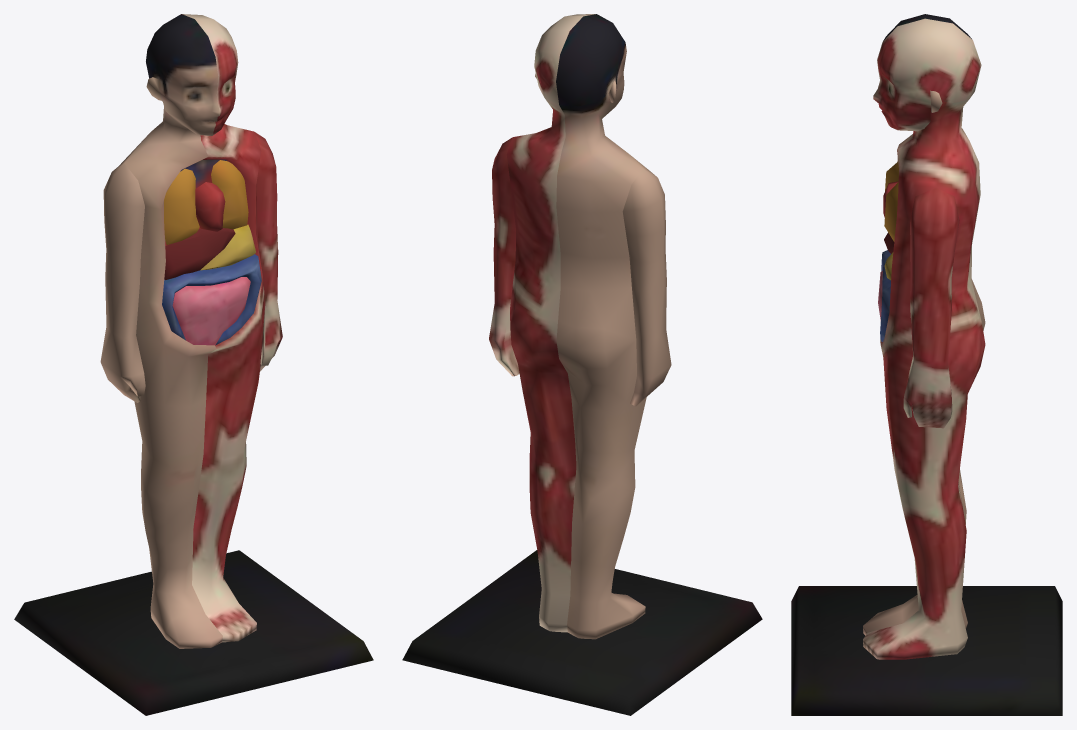
3 renders of one model, left to right at view 1: azimuth 30°, elevation 25°; view 2: azimuth 150°, elevation 25°; view 3: azimuth 270°, elevation 25°, orthographic. The views are drawn at different scales.
Bounding box in the file's own units: 6.83 × 17.78 × 6.84.
Materials: 1 (1 with a texture image).
